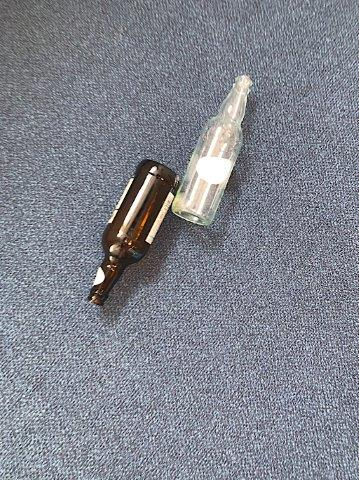botolkaca: (86, 160, 178, 307), (174, 76, 252, 226)
